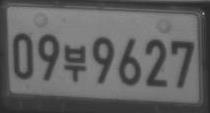0: (12, 33, 33, 79)
2: (145, 38, 167, 87)
6: (118, 38, 141, 85)
7: (170, 40, 195, 87)
9: (37, 34, 60, 80), (92, 36, 114, 83)
부: (63, 44, 86, 82)
